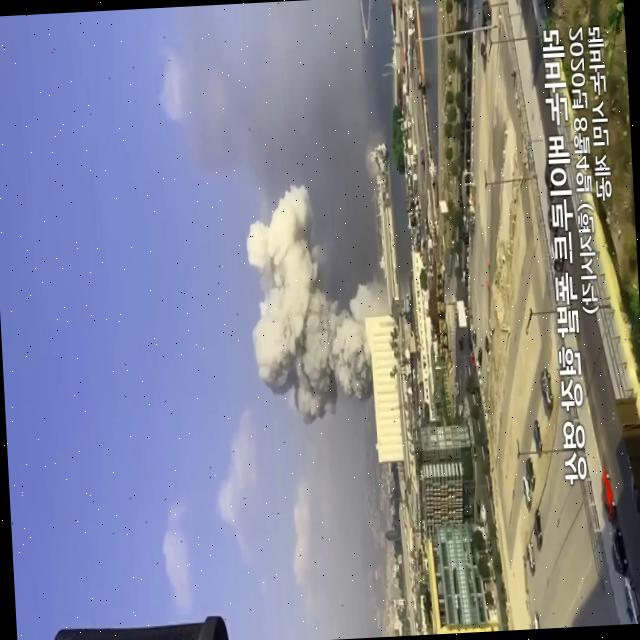explosion: (205, 121, 437, 482)
